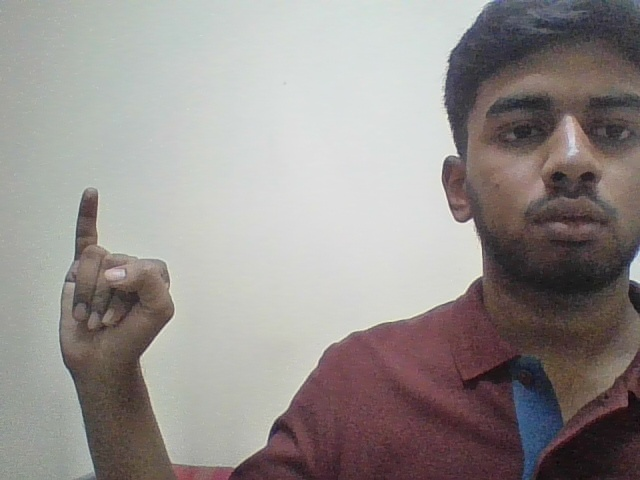I: (45, 168, 187, 389)
